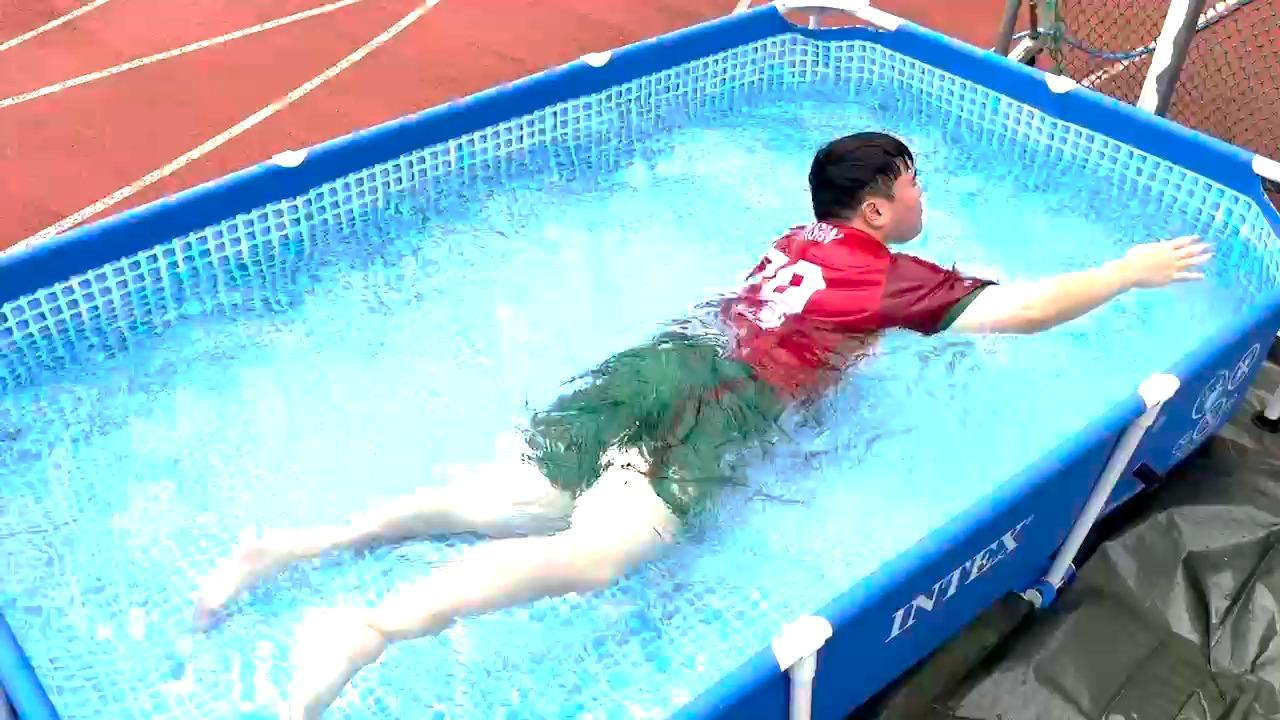Swimming: (164, 117, 1217, 674)
